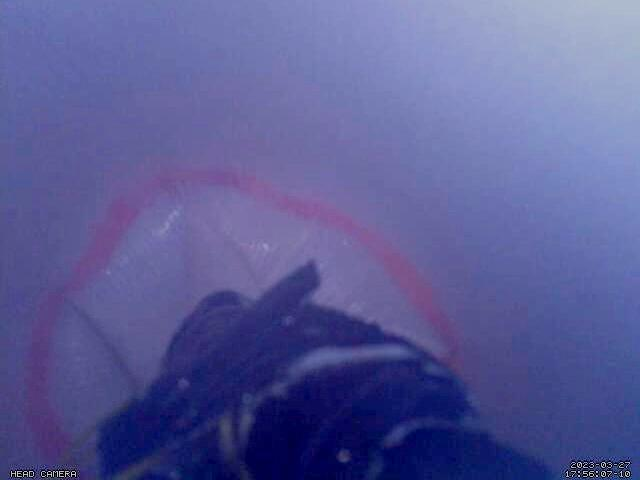head: (24, 165, 472, 480)
